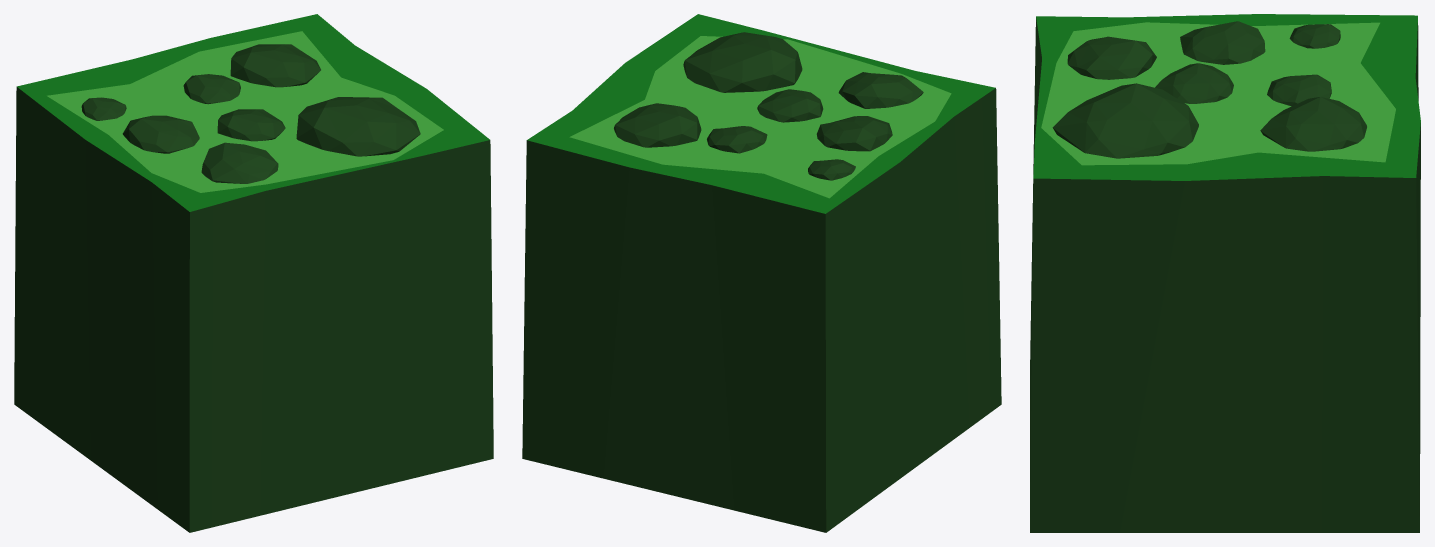
The model's file is TileRock_02.fbx.
3 renders of one model, left to right at view 1: azimuth 30°, elevation 25°; view 2: azimuth 150°, elevation 25°; view 3: azimuth 270°, elevation 25°, orthographic. The views are drawn at different scales.
Visible parts, largest first — view 1: RockTile_02; view 2: RockTile_02; view 3: RockTile_02.
Boxes of the visible parts, left/top/right/bottom form: RockTile_02: left=14, top=14, right=493, bottom=532; RockTile_02: left=522, top=14, right=1001, bottom=532; RockTile_02: left=1030, top=14, right=1420, bottom=532.
Bounding box in the file's own units: 101 × 109 × 100.
